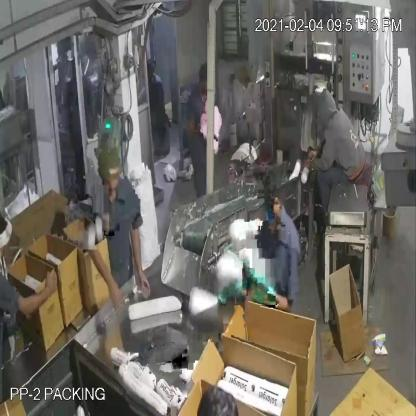glove: (229, 244, 278, 316)
no_glove: (82, 223, 125, 316), (11, 259, 66, 321), (126, 216, 154, 300), (298, 150, 325, 183)
